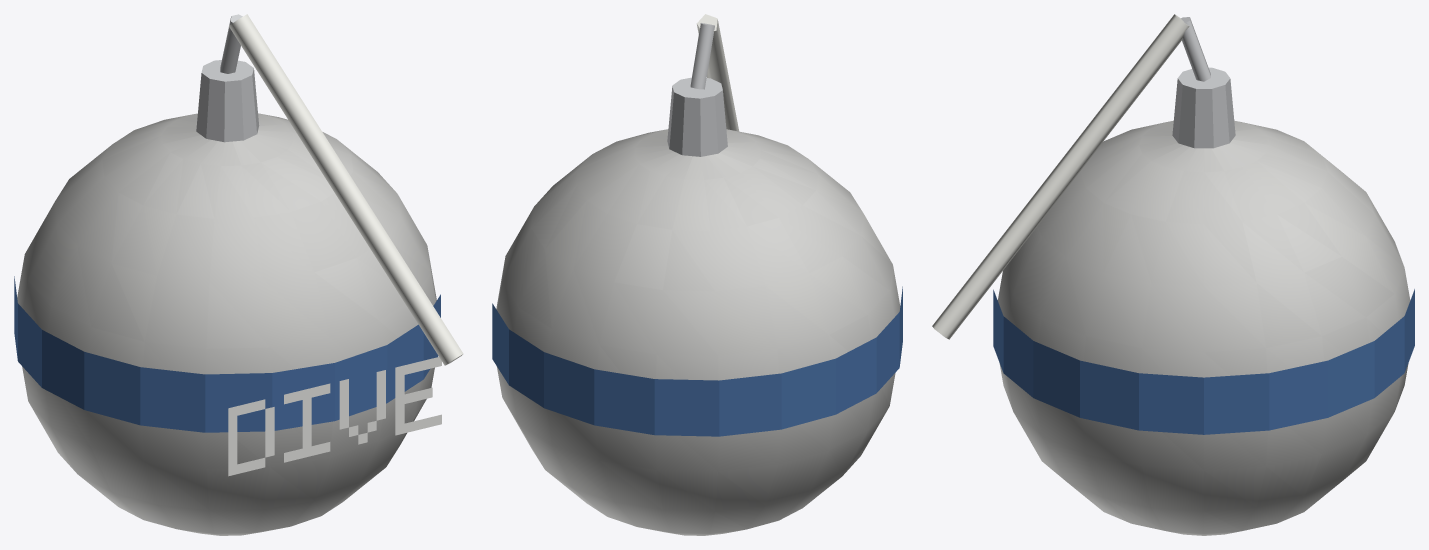
File: lake_buoy_a.glb
3 views of the same model, side by side, from view 1: azimuth 30°, elevation 25°; view 2: azimuth 150°, elevation 25°; view 3: azimuth 270°, elevation 25° (orthographic). The views are drawn at different scales.
Visible parts, largest first — view 1: body; view 2: body; view 3: body.
Boxes of the visible parts, left/top/right/bottom form: body: left=14, top=14, right=463, bottom=535; body: left=492, top=14, right=902, bottom=535; body: left=932, top=14, right=1414, bottom=535.
Bounding box in the file's own units: 0.4 × 0.527 × 0.458.
